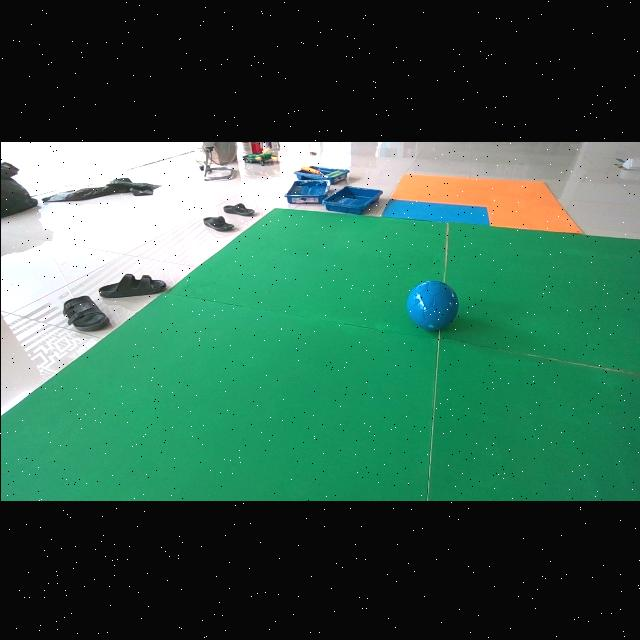B: (405, 280, 458, 328)
